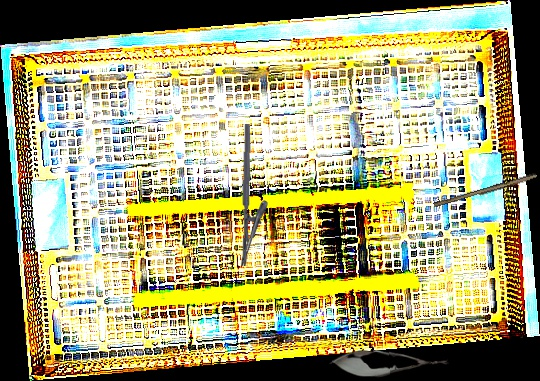Micro Scissor: (329, 347, 450, 379)
Needle Holder: (239, 123, 271, 267)
Scalpel Handle: (433, 171, 538, 211)
